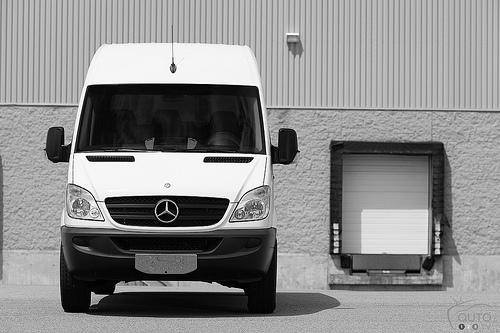car: (42, 24, 302, 317)
